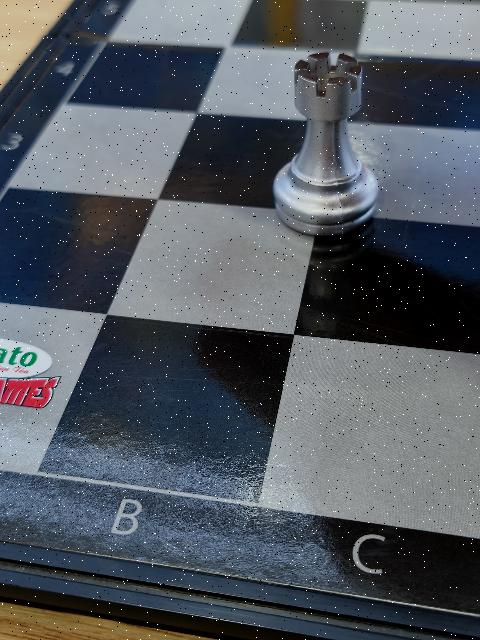white_rook: (272, 49, 381, 231)
